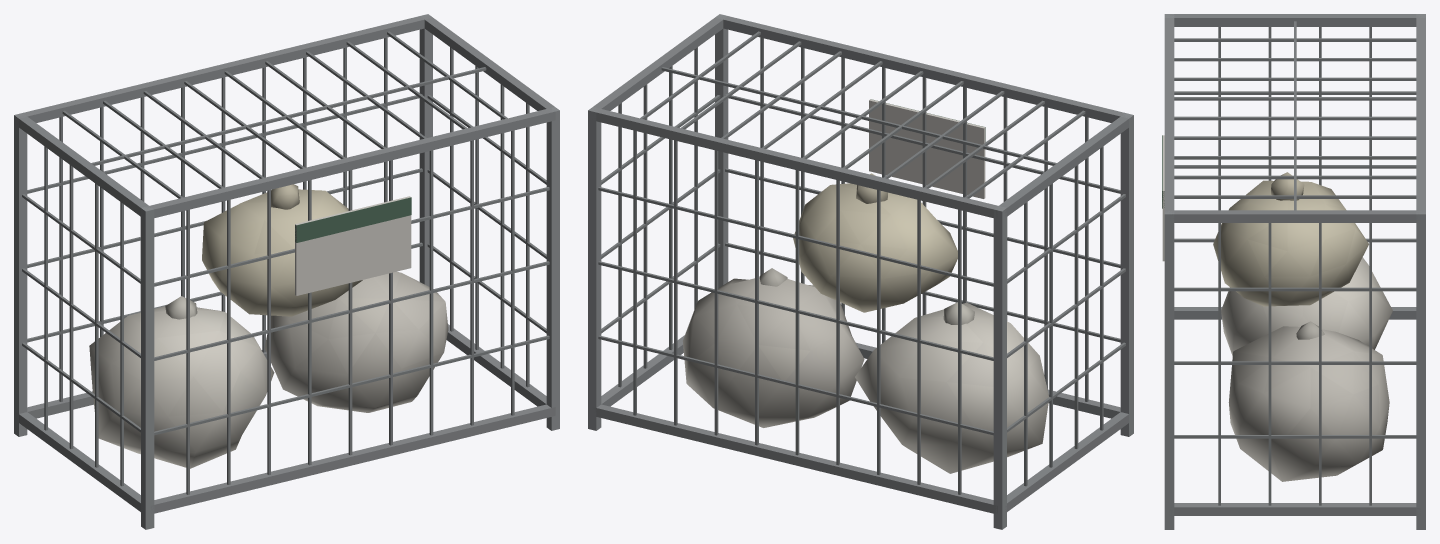
Rendered from prop_garbage_station_01.glb.
3 views of the same model, side by side, from view 1: azimuth 30°, elevation 25°; view 2: azimuth 150°, elevation 25°; view 3: azimuth 270°, elevation 25° (orthographic).
Visible parts, largest first — view 1: prop_garbage_station_01; view 2: prop_garbage_station_01; view 3: prop_garbage_station_01.
Boxes of the visible parts, x1=… form: prop_garbage_station_01: x1=14, y1=14, x2=559, y2=529; prop_garbage_station_01: x1=588, y1=14, x2=1133, y2=529; prop_garbage_station_01: x1=1162, y1=14, x2=1425, y2=529.
Size of the model in its own units: 1.23 by 0.9154 by 0.6815.
